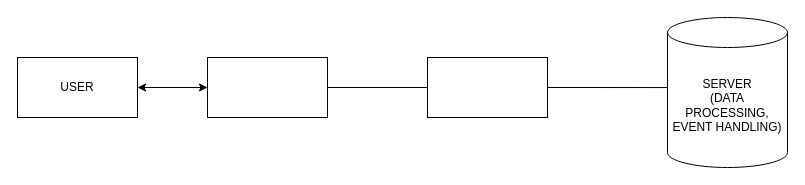
This 805x185 diagram has some shape labels left out. Each missing label, with the centre of its shape:
"EYES TRACKING DEVICE (WEBCAM)" goes at [487,87].
"USER-INTERFACE" goes at [267,87].
